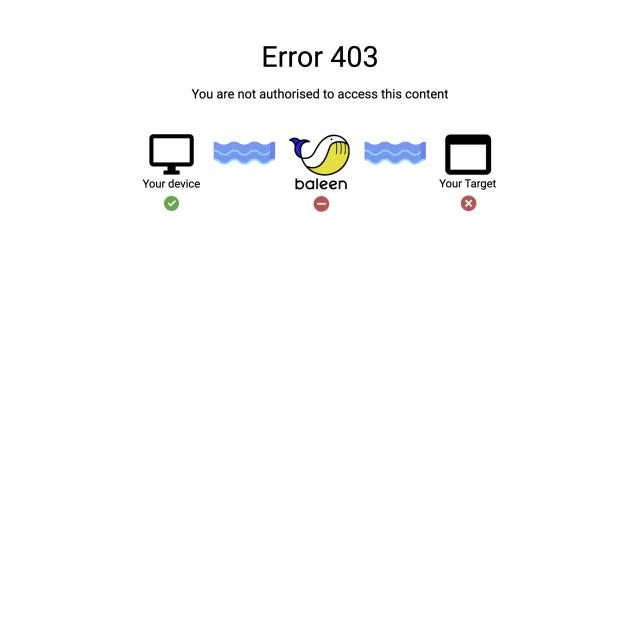Input field: (188, 84, 452, 105)
carousel: (162, 194, 182, 213), (312, 194, 331, 213), (460, 194, 478, 212)
content: (288, 132, 352, 178), (147, 128, 198, 178), (444, 132, 494, 175), (211, 138, 278, 168), (362, 139, 428, 166)
image: (260, 40, 378, 74)
